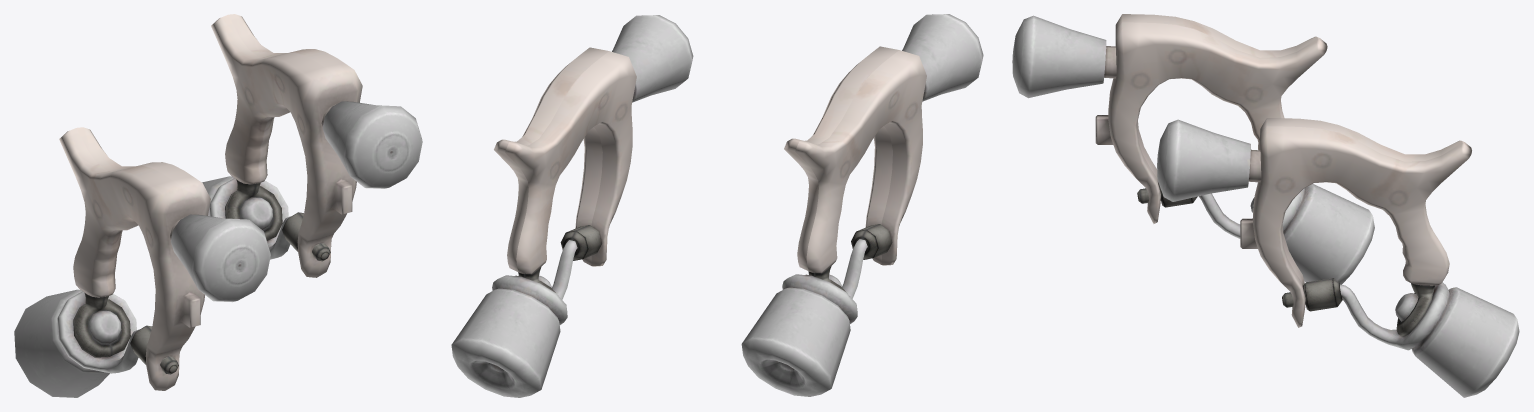
3 views of the same model, side by side, from view 1: azimuth 30°, elevation 25°; view 2: azimuth 150°, elevation 25°; view 3: azimuth 270°, elevation 25° (orthographic). The views are drawn at different scales.
Visible parts, largest first — view 1: Body_low__M_Plastic.002, Body_low__M_Plastic.001, Body_low__M_Body.001, Body_low__M_Body.009, Body_low__M_Clear.001, Body_low__M_Clear; view 2: Body_low__M_Plastic.001, Body_low__M_Plastic.002, Body_low__M_Body.009, Body_low__M_Body.001, Body_low__M_Clear, Body_low__M_Clear.001; view 3: Body_low__M_Plastic.001, Body_low__M_Plastic.002, Body_low__M_Body.009, Body_low__M_Body.001, Body_low__M_Clear.
Boxes of the visible parts, x1,y1,x2,y2 form: Body_low__M_Plastic.002: [59, 127, 210, 390]; Body_low__M_Plastic.001: [211, 14, 362, 277]; Body_low__M_Body.001: [14, 214, 270, 397]; Body_low__M_Body.009: [202, 101, 422, 259]; Body_low__M_Clear.001: [73, 293, 178, 374]; Body_low__M_Clear: [225, 179, 330, 261]; Body_low__M_Plastic.001: [494, 47, 636, 274]; Body_low__M_Plastic.002: [784, 46, 926, 273]; Body_low__M_Body.009: [451, 15, 693, 397]; Body_low__M_Body.001: [741, 14, 983, 396]; Body_low__M_Clear: [515, 225, 601, 292]; Body_low__M_Clear.001: [806, 224, 892, 291]; Body_low__M_Plastic.001: [1240, 118, 1471, 327]; Body_low__M_Plastic.002: [1095, 14, 1327, 223]; Body_low__M_Body.009: [1157, 119, 1519, 397]; Body_low__M_Body.001: [1012, 15, 1374, 284]; Body_low__M_Clear: [1282, 278, 1434, 336].
Size of the model in its own units: 0.6634 by 0.5714 by 0.9757.
6 materials, 6 textured.
